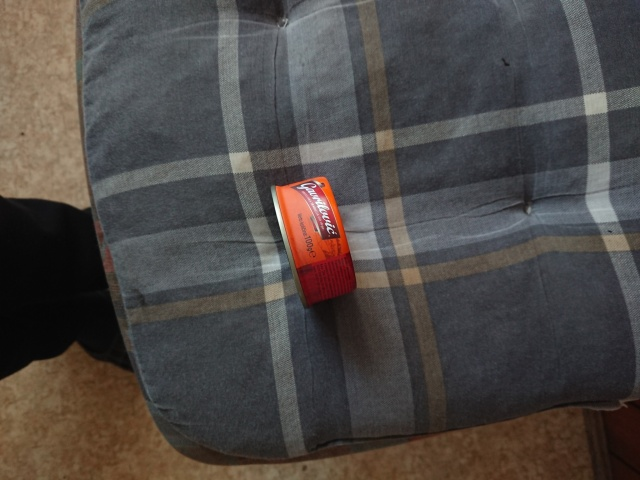Gavrilovic Pork Liver Pate 100g: (268, 174, 361, 312)
